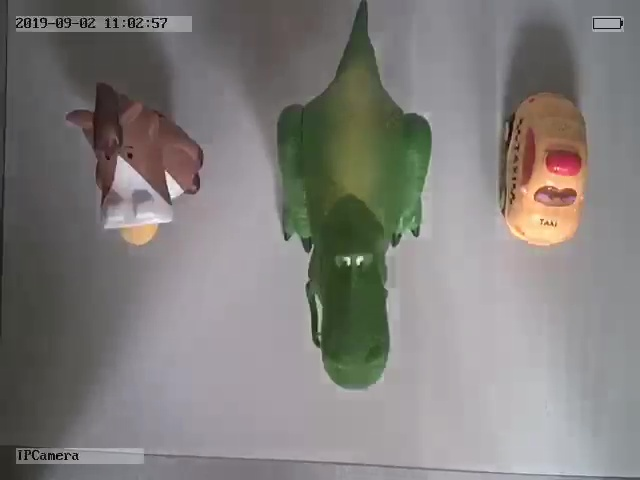car: (498, 89, 589, 249)
horse: (65, 81, 205, 248)
rex: (273, 1, 433, 391)
